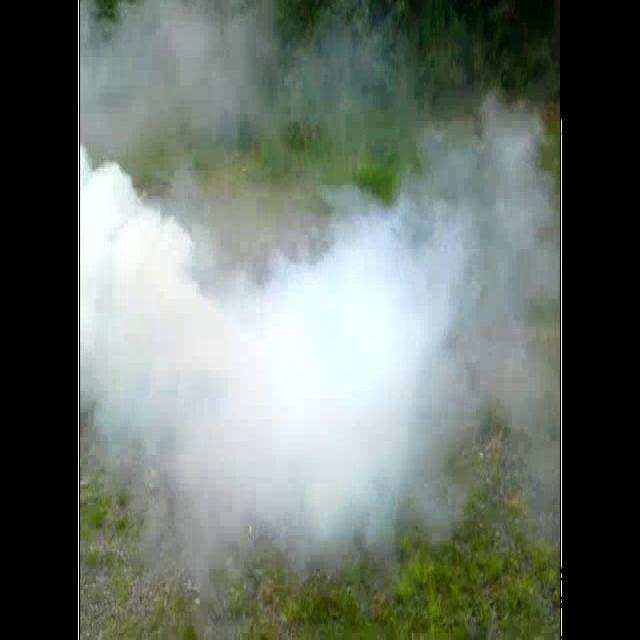Smoke: (80, 87, 560, 606), (81, 0, 559, 174)
